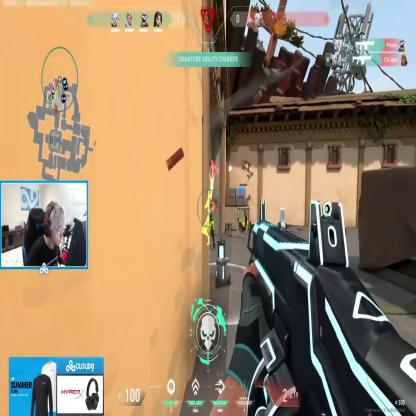enemy: (202, 192, 217, 255)
enemy_head: (206, 193, 211, 204)
